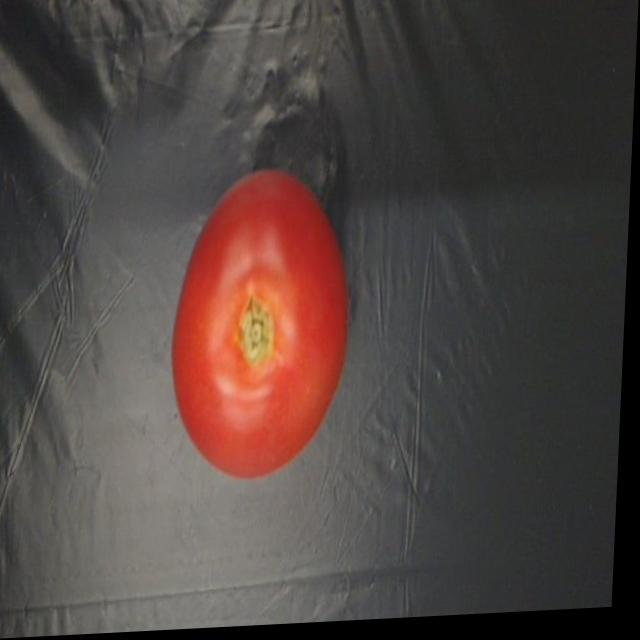kirmizi: (117, 106, 382, 495)
